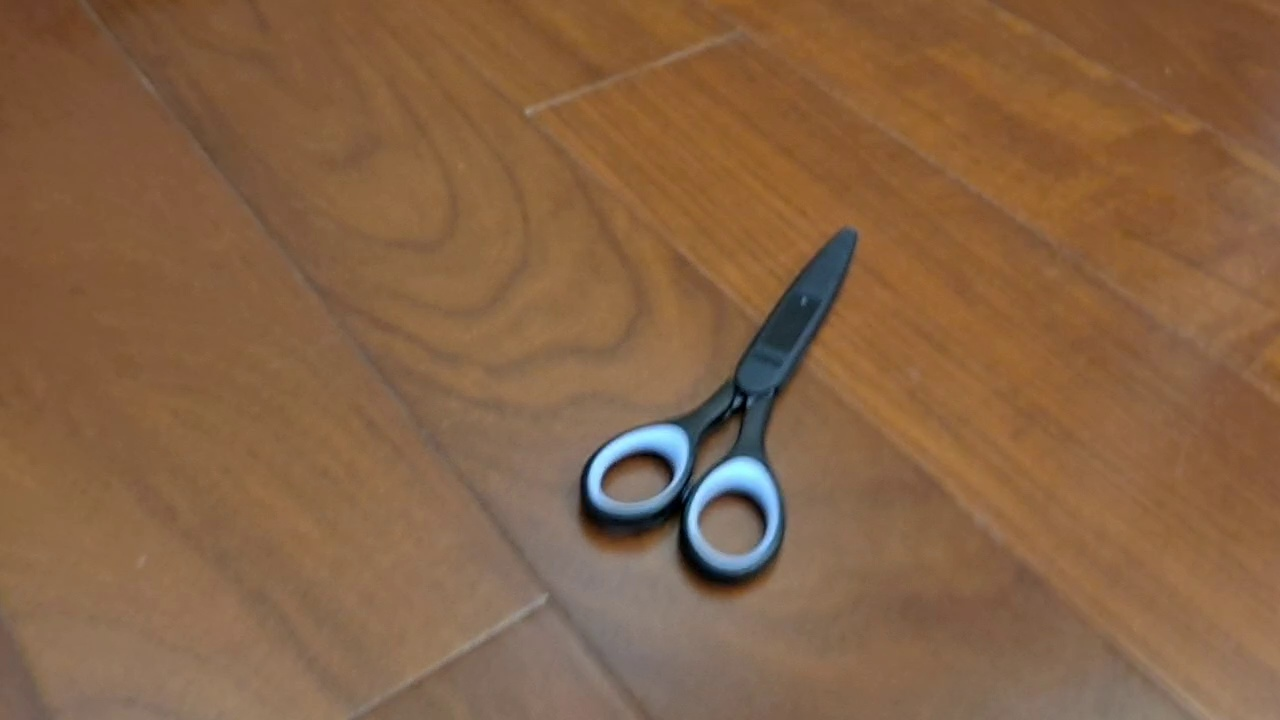scissors: (575, 225, 859, 590)
